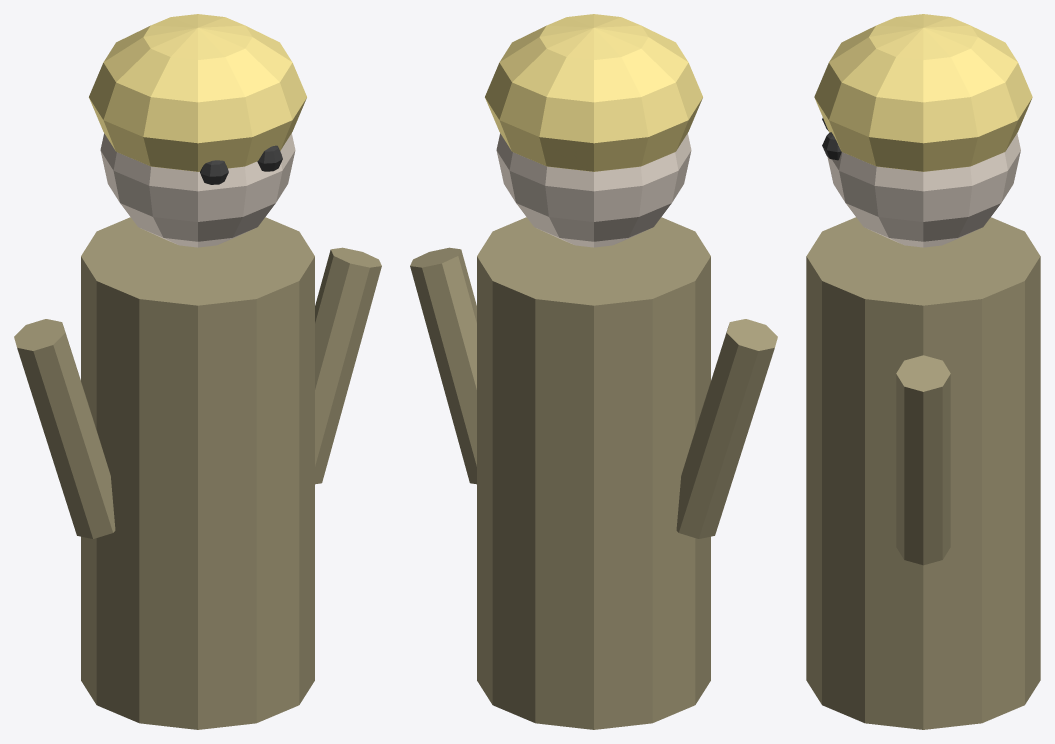
The model's file is hero_handel.glb.
3 renders of one model, left to right at view 1: azimuth 30°, elevation 25°; view 2: azimuth 150°, elevation 25°; view 3: azimuth 270°, elevation 25°, orthographic.
Parts seen in each view (by area): view 1: hero_handel_Body, hero_handel_Wig, hero_handel_Head, hero_handel_Arm, hero_handel_Arm.001; view 2: hero_handel_Body, hero_handel_Wig, hero_handel_Head, hero_handel_Arm, hero_handel_Arm.001; view 3: hero_handel_Body, hero_handel_Wig, hero_handel_Head, hero_handel_Arm.001.
Boxes of the visible parts, x1=… form: hero_handel_Body: x1=81, y1=217, x2=314, y2=729; hero_handel_Wig: x1=89, y1=14, x2=306, y2=171; hero_handel_Head: x1=100, y1=133, x2=295, y2=247; hero_handel_Arm: x1=14, y1=319, x2=115, y2=538; hero_handel_Arm.001: x1=315, y1=247, x2=381, y2=484; hero_handel_Body: x1=477, y1=217, x2=710, y2=729; hero_handel_Wig: x1=485, y1=14, x2=702, y2=171; hero_handel_Head: x1=496, y1=133, x2=691, y2=247; hero_handel_Arm: x1=676, y1=319, x2=777, y2=538; hero_handel_Arm.001: x1=410, y1=247, x2=476, y2=484; hero_handel_Body: x1=806, y1=217, x2=1040, y2=729; hero_handel_Wig: x1=814, y1=14, x2=1032, y2=171; hero_handel_Head: x1=827, y1=133, x2=1020, y2=247; hero_handel_Arm.001: x1=896, y1=355, x2=950, y2=565.
Size of the model in its own units: 1.07 by 1.85 by 0.6.
